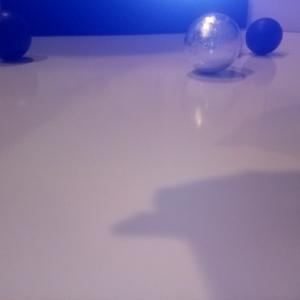alive_ball: (186, 12, 241, 74)
dead_ball: (1, 11, 32, 60), (245, 17, 283, 55)
